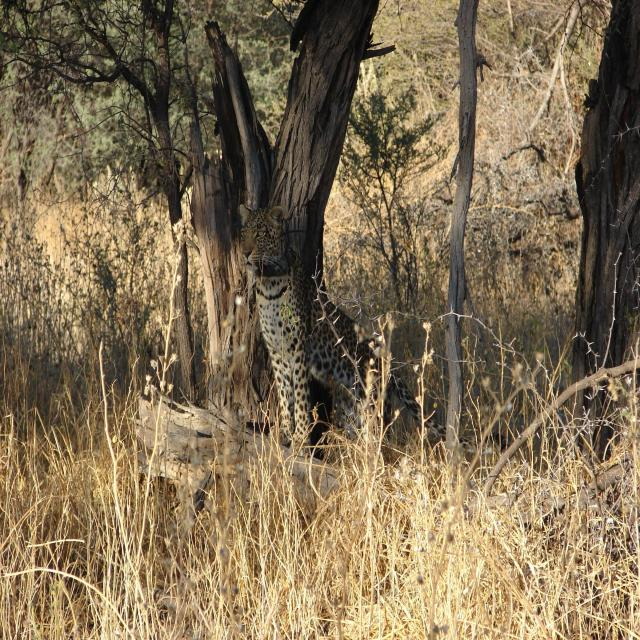Leopard: (226, 214, 388, 444)
